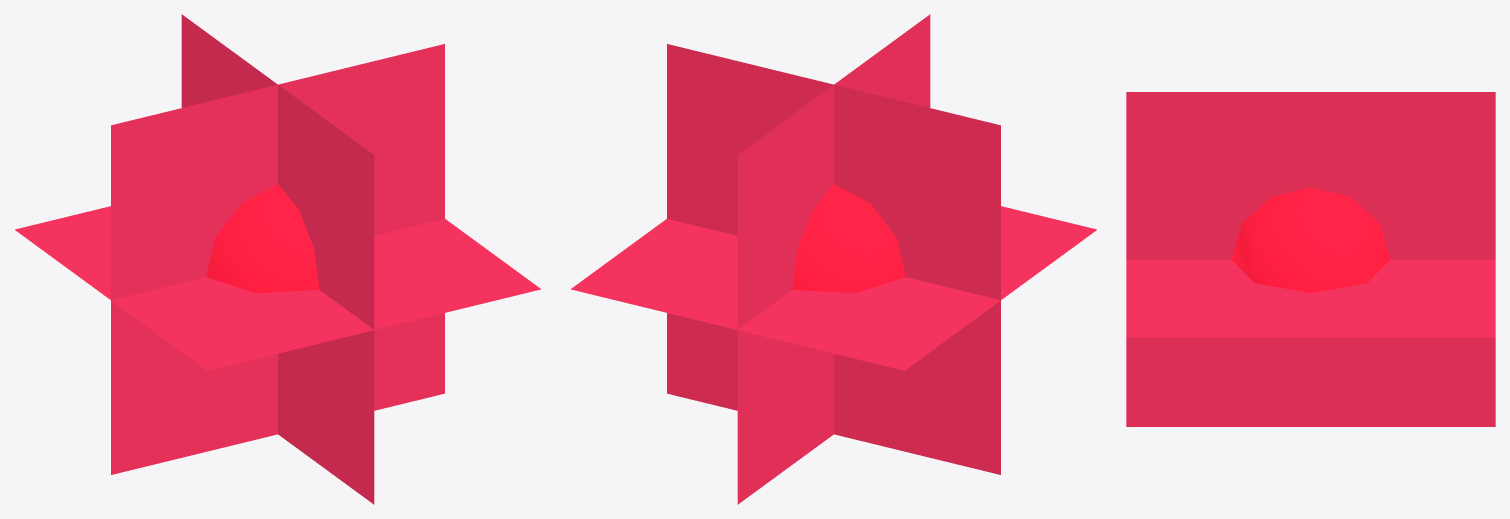
File: fx_borb.glb
The picture shows the model from 3 angles, left to right: view 1: azimuth 30°, elevation 25°; view 2: azimuth 150°, elevation 25°; view 3: azimuth 270°, elevation 25°; orthographic projection. The views are drawn at different scales.
Visible parts, largest first — view 1: fx_borb_glow, fx_borb_core; view 2: fx_borb_glow, fx_borb_core; view 3: fx_borb_glow, fx_borb_core.
Part boxes in pixels (box(x1,y1,x2,y2)): fx_borb_glow: box(15, 14, 540, 504); fx_borb_core: box(206, 184, 319, 293); fx_borb_glow: box(571, 14, 1096, 504); fx_borb_core: box(792, 184, 905, 293); fx_borb_glow: box(1126, 92, 1495, 426); fx_borb_core: box(1231, 187, 1390, 338).
Bounding box in the file's own units: 1.3 × 1.3 × 1.3.
Materials: 2 (1 with a texture image).
